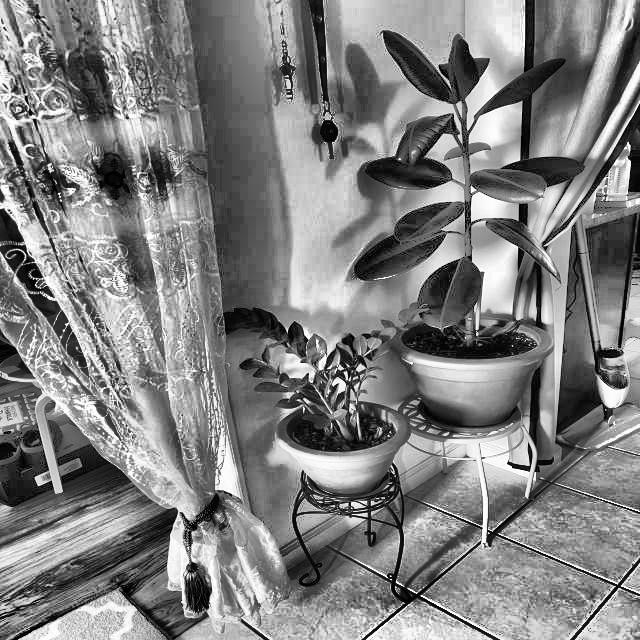plants: (380, 20, 572, 362), (221, 309, 406, 458)
